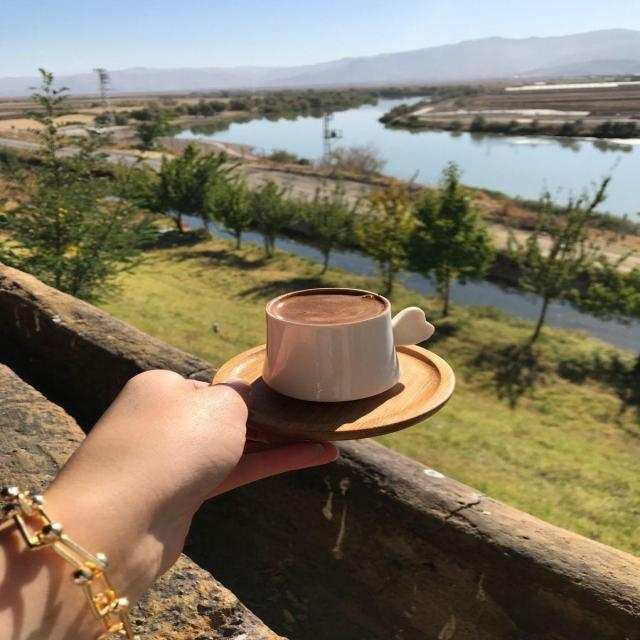cup-handle: (262, 286, 434, 403)
